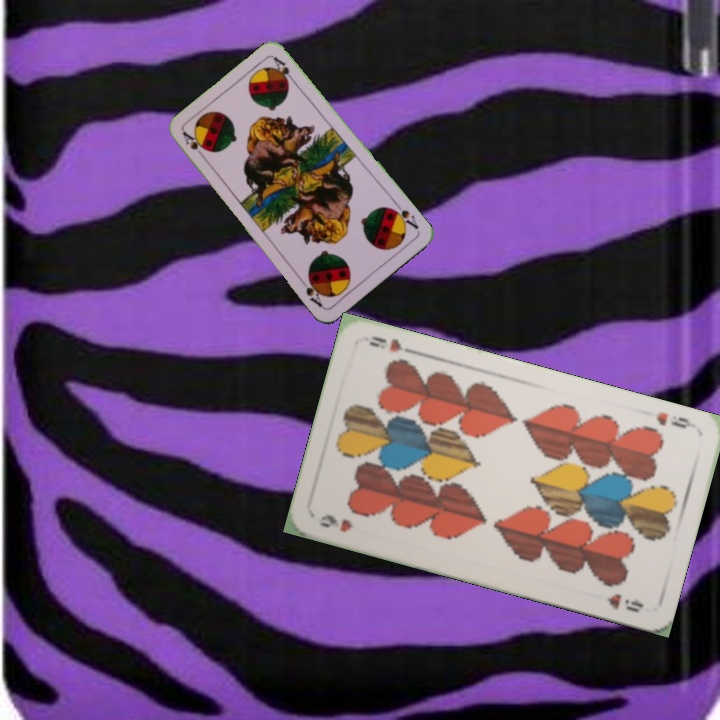H9: (652, 407, 699, 431), (316, 510, 355, 535)
SA: (386, 198, 421, 232), (178, 128, 208, 163)
